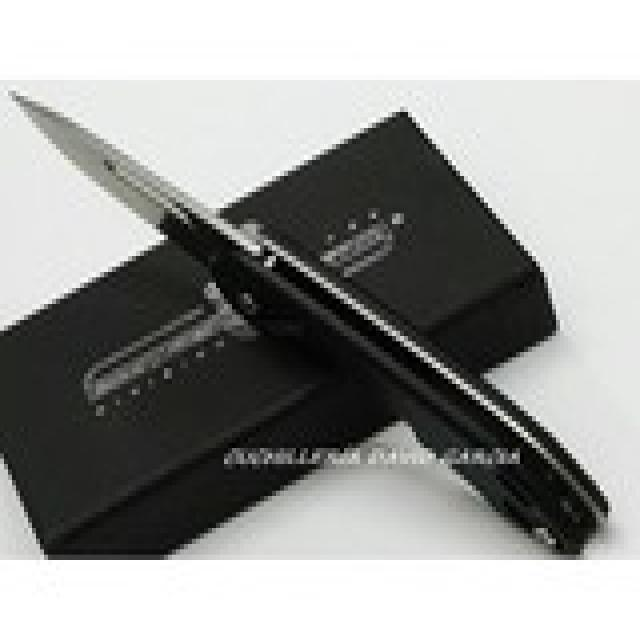Knife: (3, 88, 612, 551)
